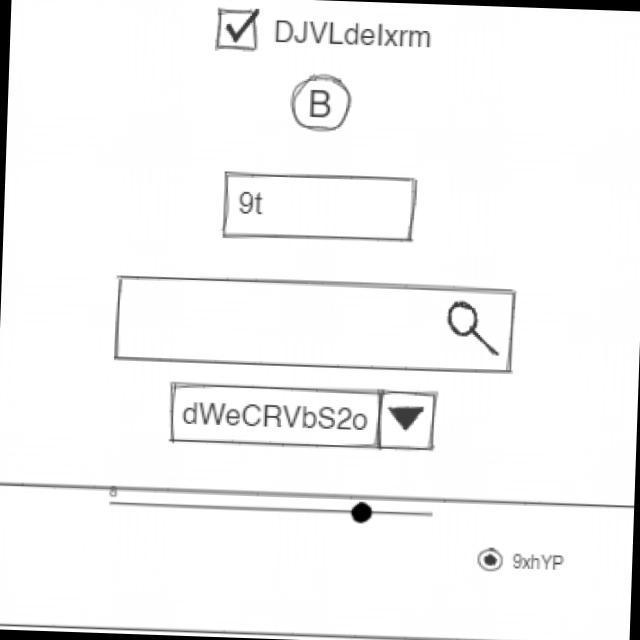checkbox: (214, 4, 435, 61)
container: (1, 475, 635, 640)
icon-button: (287, 69, 356, 138)
input: (218, 167, 423, 248)
radio: (474, 547, 568, 578)
search: (111, 270, 523, 380)
select: (166, 376, 442, 456)
slider: (121, 492, 438, 529)
